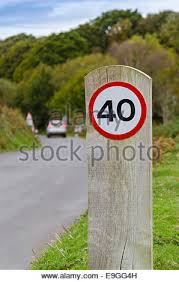Speed_limit_40km: (88, 82, 147, 141)
